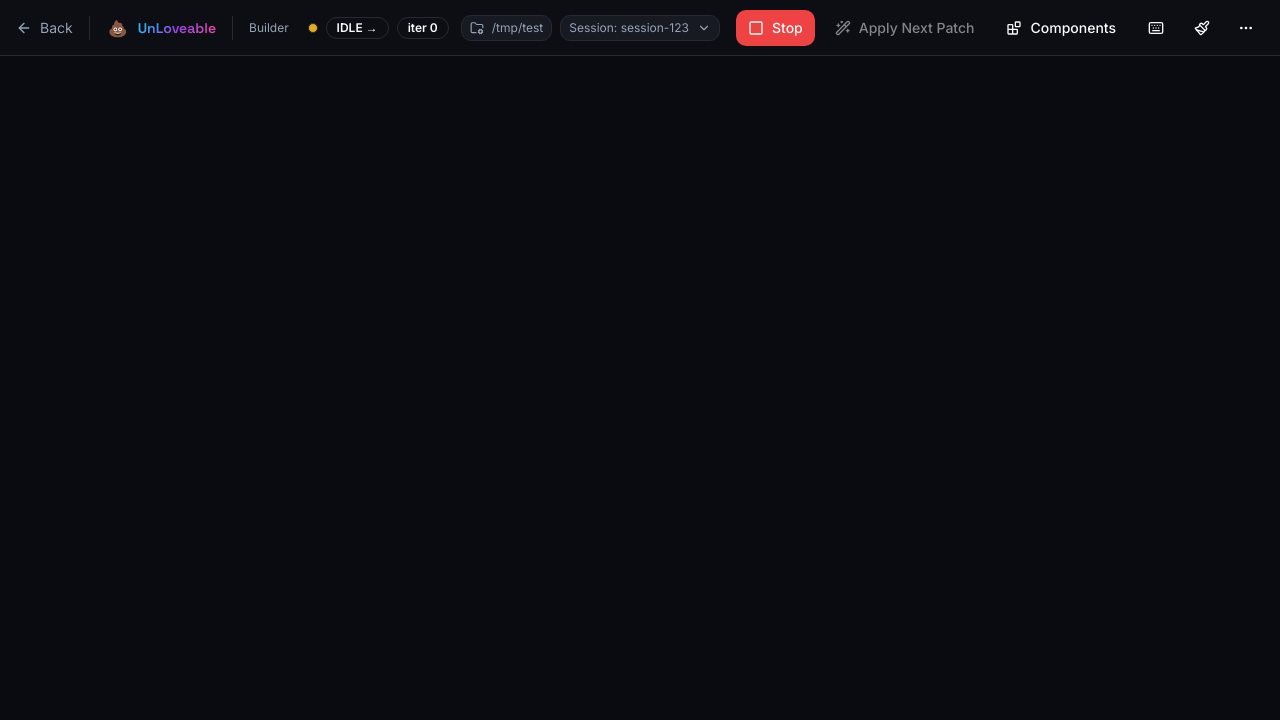
Test: BuilderHeader › shows confirmation dialog when clicking back while running
The image size is (1280, 720).
# Click back button
Click the button "Back". click: (44, 28)
box: [16, 18, 73, 38]
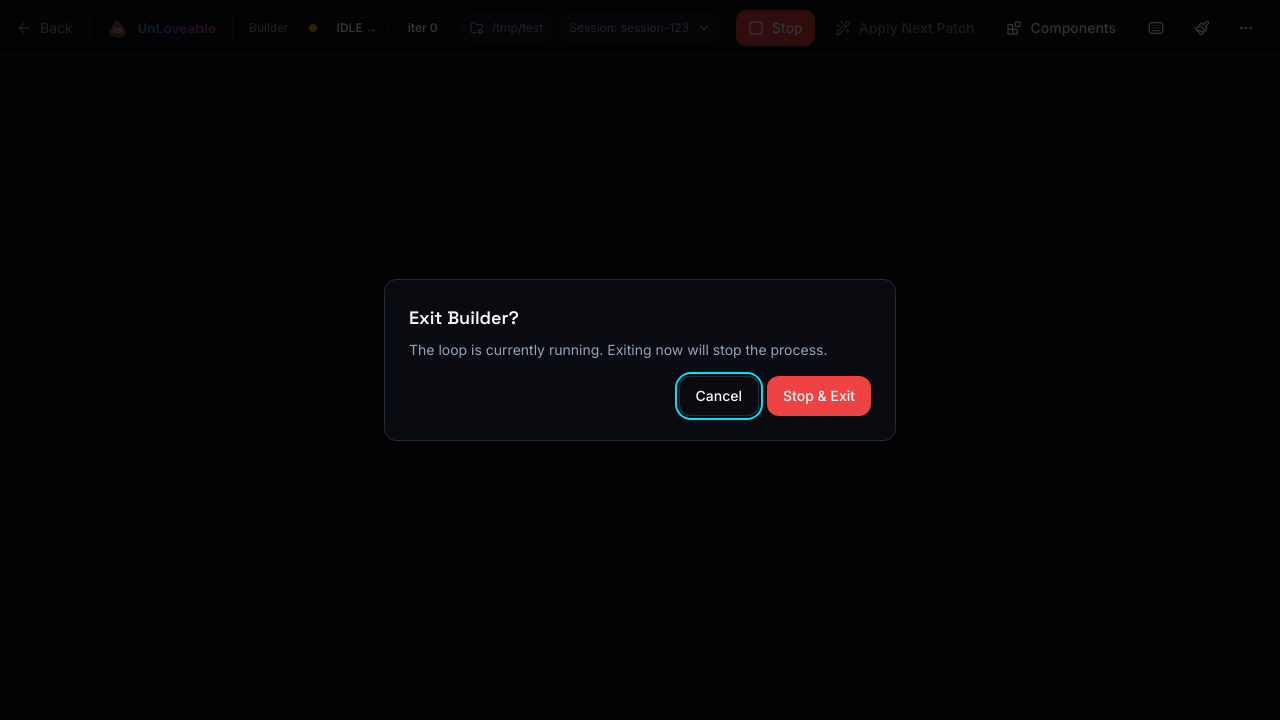
Now the heading "Exit Builder?" is shown, box [409, 306, 519, 329]
Now the text "The loop is currently running. Exiting now will stop the process." is shown, box [409, 340, 871, 360]
